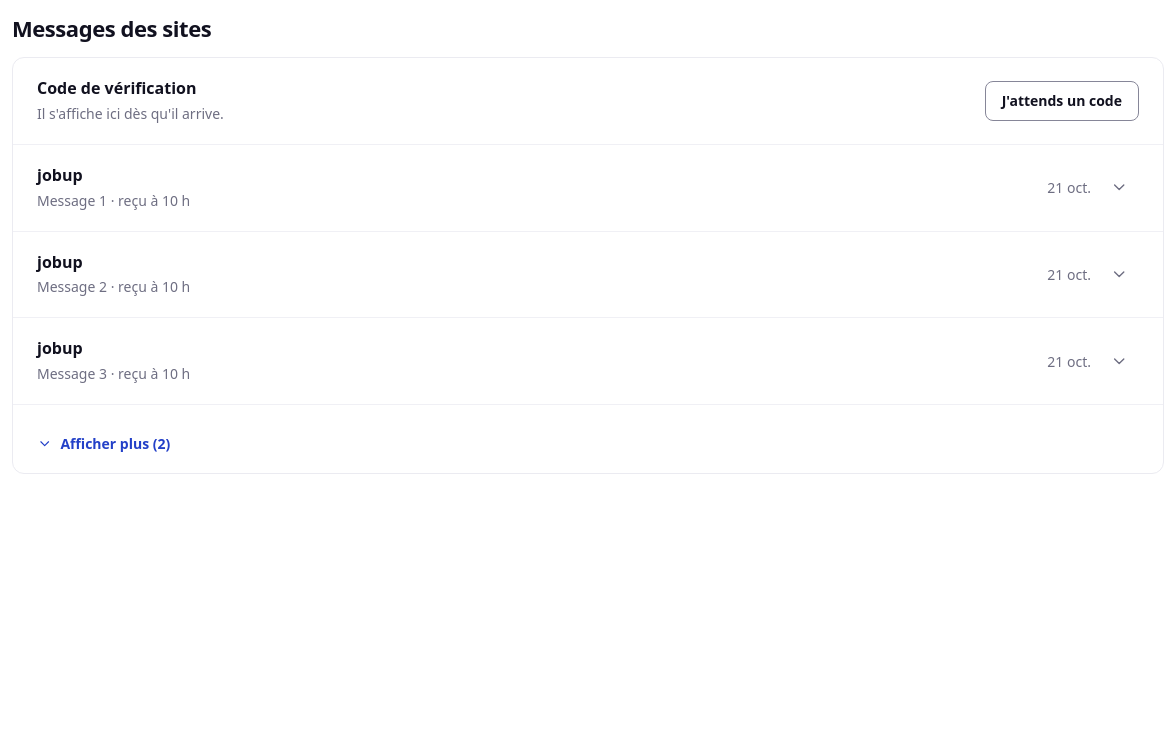
Test: Les codes des sites (docs/112) › trois messages, les autres avec « Afficher plus (n) » en bas de la carte (règles §4)
Expected: the number of elements with test id "site-message" is 3, [13,144,1163,231]; [13,231,1163,317]; [13,317,1163,404]
Click the button with test id "site-mail-all" at (104, 444), box [37,433,170,454]
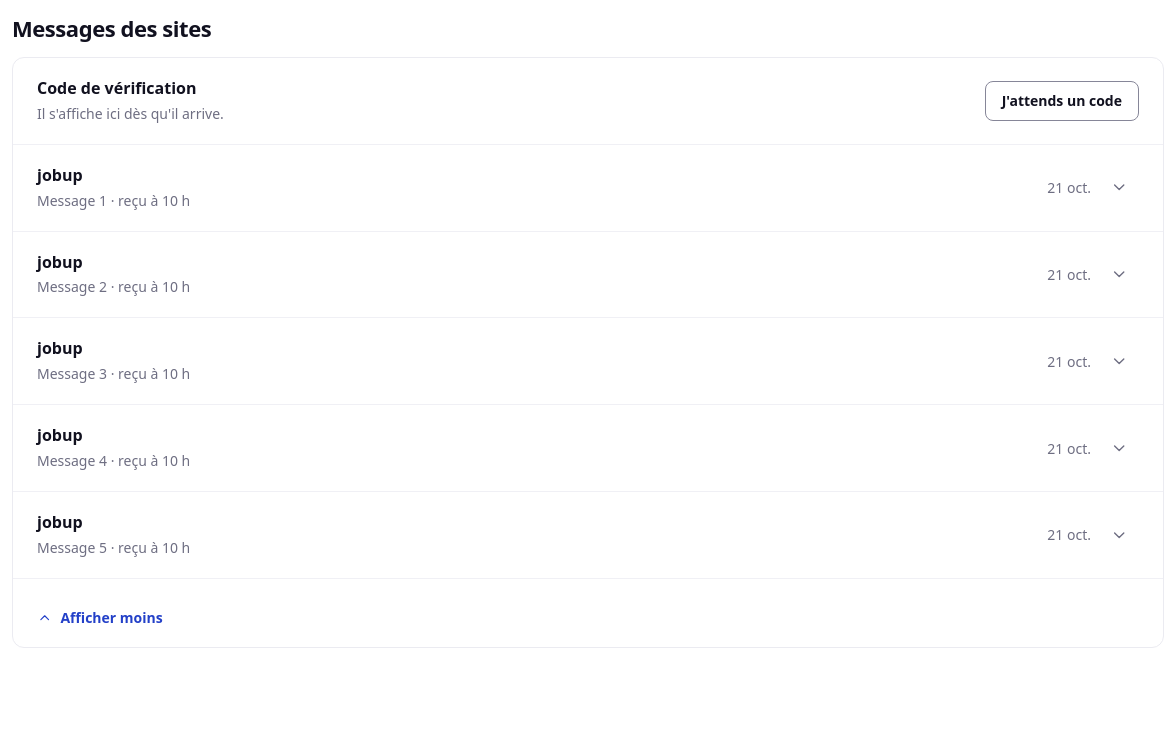
Expected: the number of elements with test id "site-message" is 5, [13,144,1163,231]; [13,231,1163,317]; [13,317,1163,404]; [13,404,1163,491]; [13,491,1163,578]
Expected: the button with test id "site-mail-all" reads "Afficher moins", [37,607,163,628]
